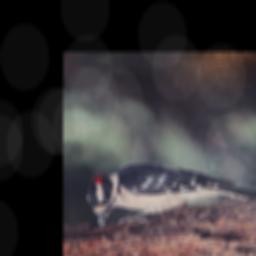Woodpecker: (82, 153, 256, 232)
